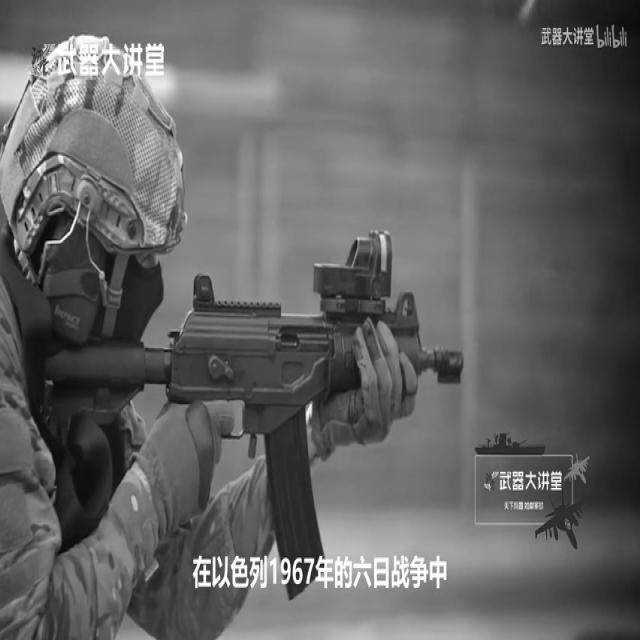Rifle: (10, 78, 487, 640)
